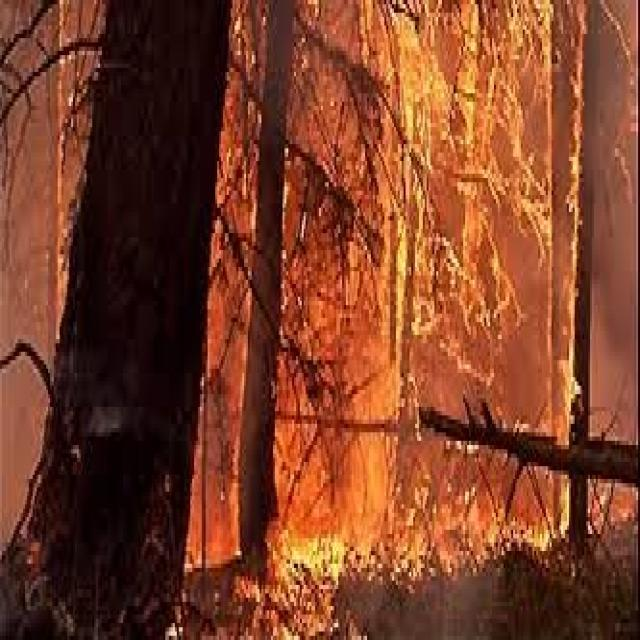Fire: (371, 1, 574, 372), (258, 474, 559, 640)
